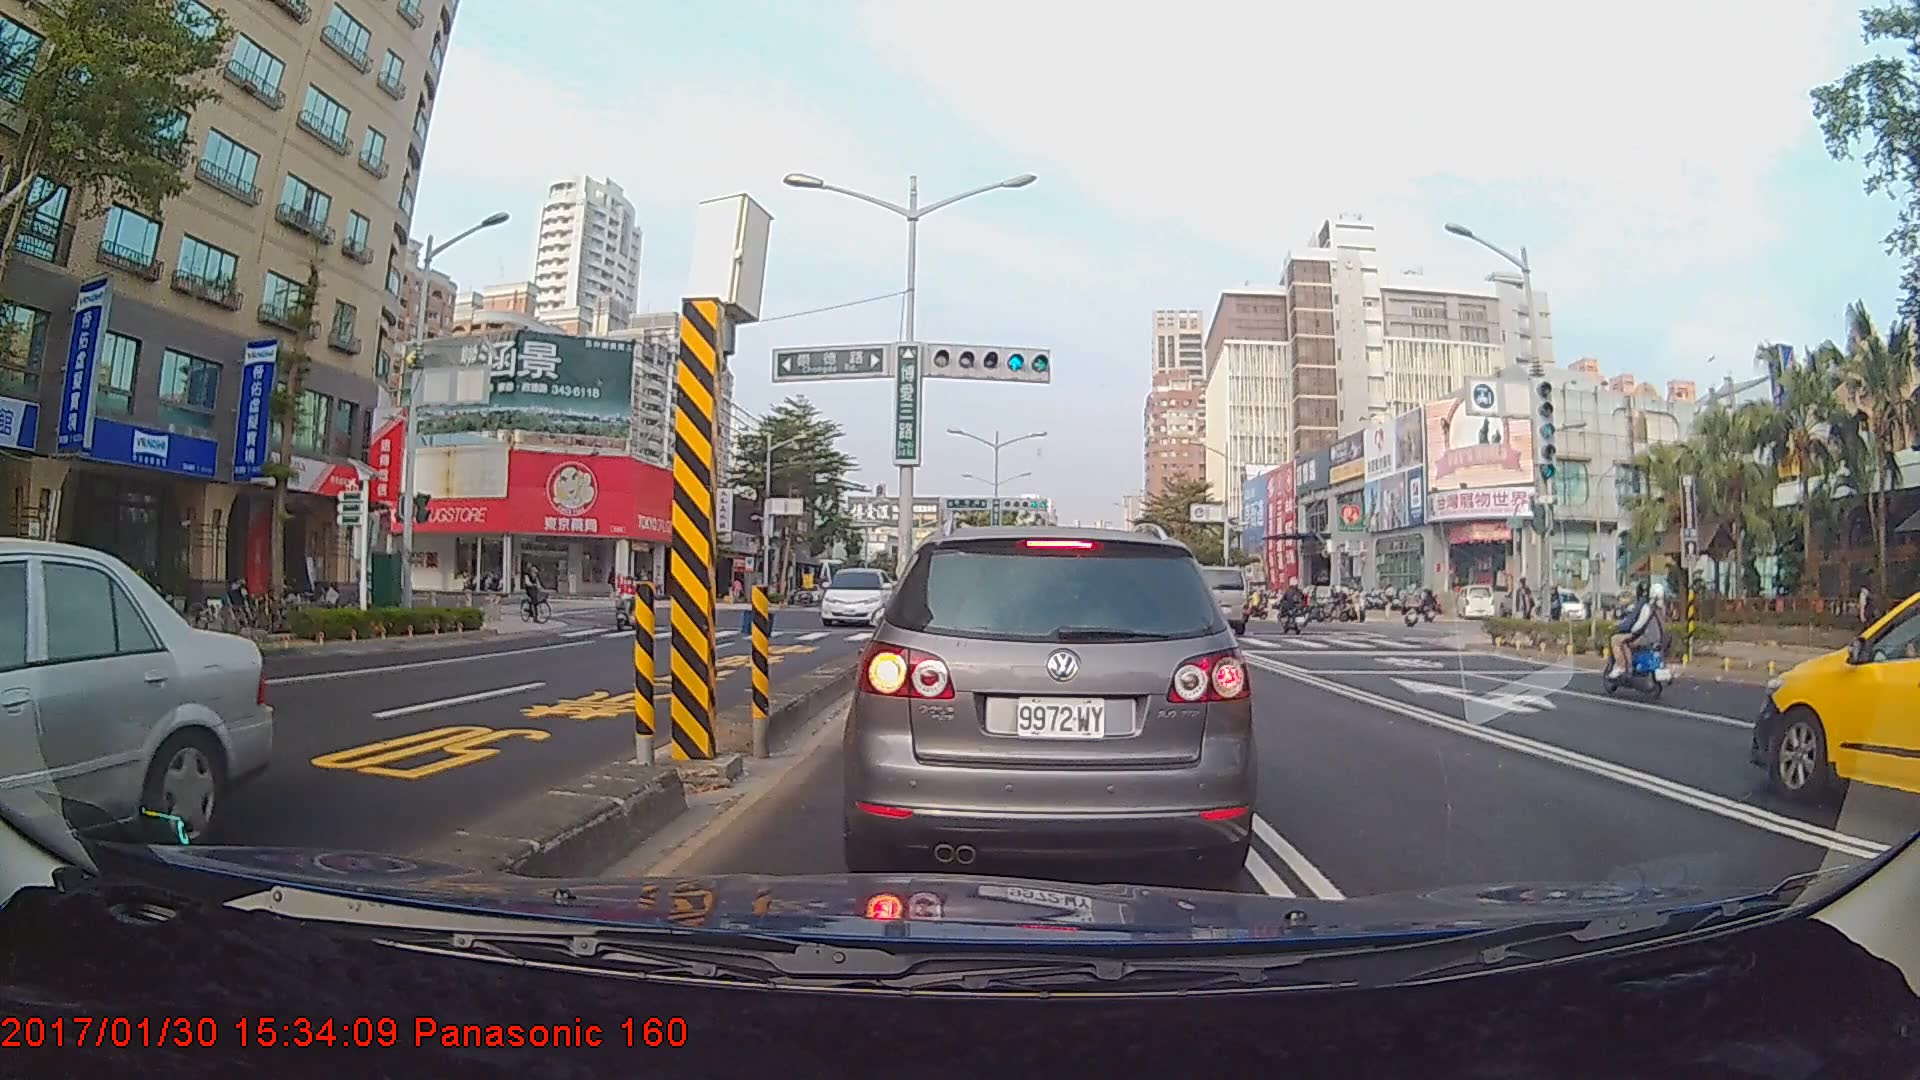pedestrian: (1851, 580, 1878, 653)
rider: (1595, 573, 1682, 707), (518, 559, 561, 629), (1280, 580, 1314, 636)
vehicle: (851, 521, 1255, 874), (0, 537, 269, 899), (1751, 578, 1919, 814), (1145, 564, 1248, 634), (819, 566, 899, 629)
